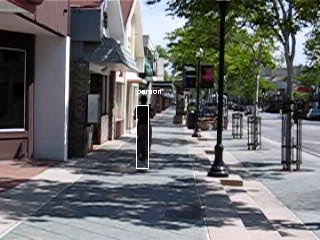person: (134, 96, 155, 162), (133, 96, 154, 162), (135, 96, 156, 162), (134, 95, 155, 161), (134, 97, 155, 163)
target_negative: (54, 6, 170, 156), (86, 93, 188, 201), (21, 101, 102, 141), (266, 45, 294, 102), (247, 117, 275, 135), (296, 209, 300, 212)
